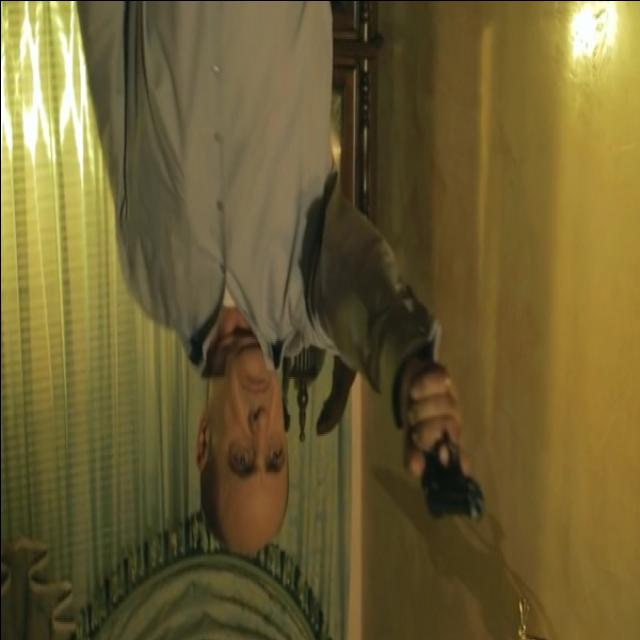weapons: (406, 368, 494, 548)
